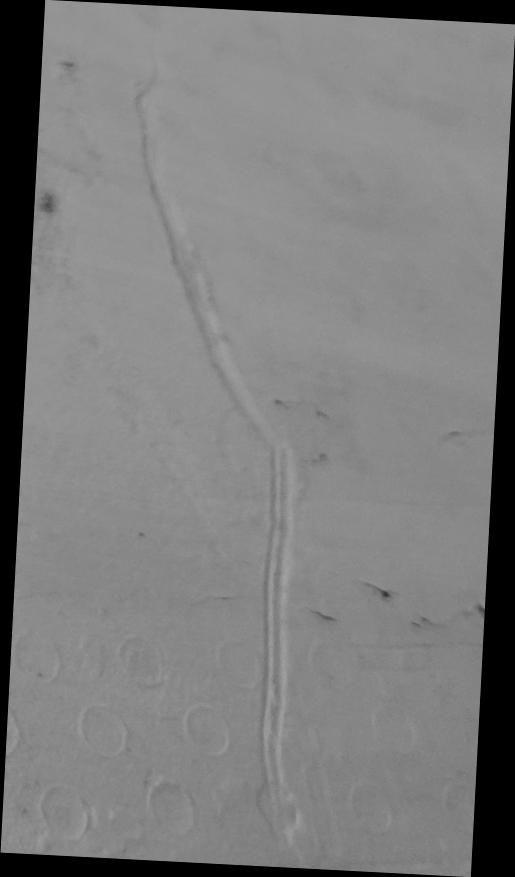scratch: (0, 1, 515, 877)
